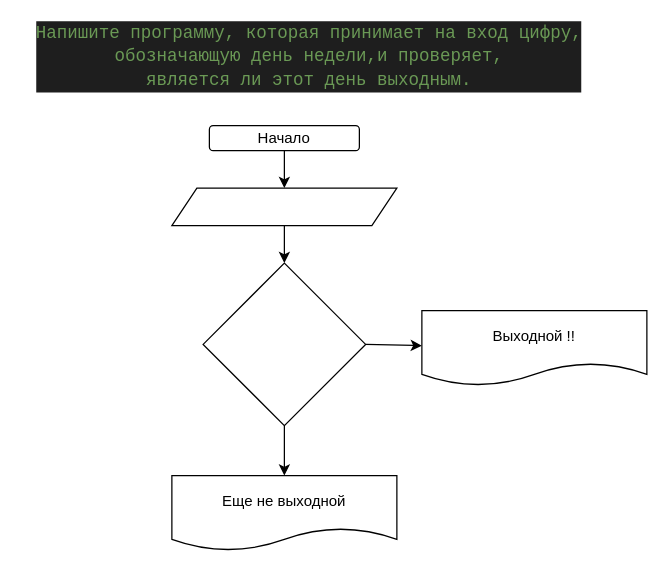
Image size: 669x573. Some labels were removed from this diagram. Each missing label, with the centre of its shape:
day < 5: the point at 284,344
ввод цифры day: the point at 284,206
